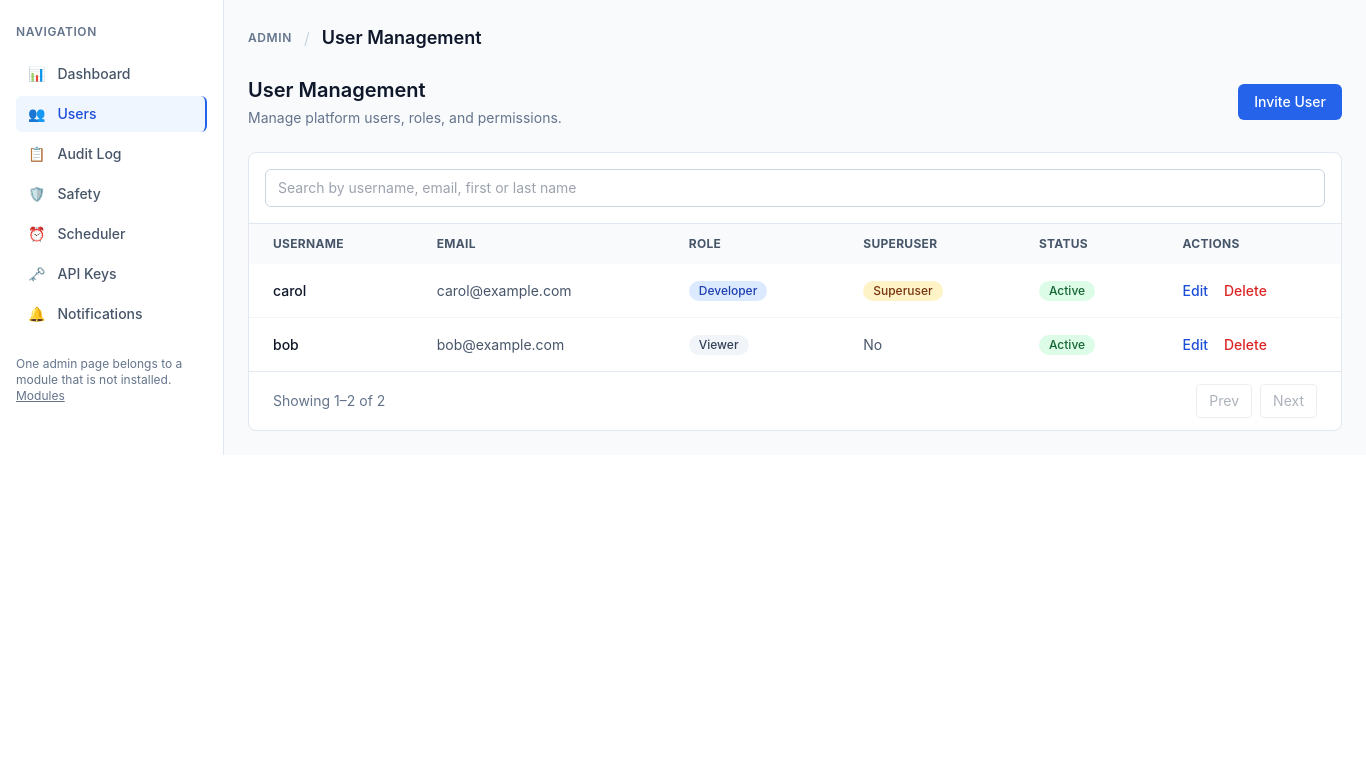
Test: /admin/users editing a user › 404 says the user is gone, inside the dialog, which stays open with the choice kept
The image size is (1366, 768).
Expected: the element with test id "user-management-page" is shown, [248,76,1342,431]
Click the button with test id "edit-user-u-2" at (1195, 344), box [1182,334,1208,354]
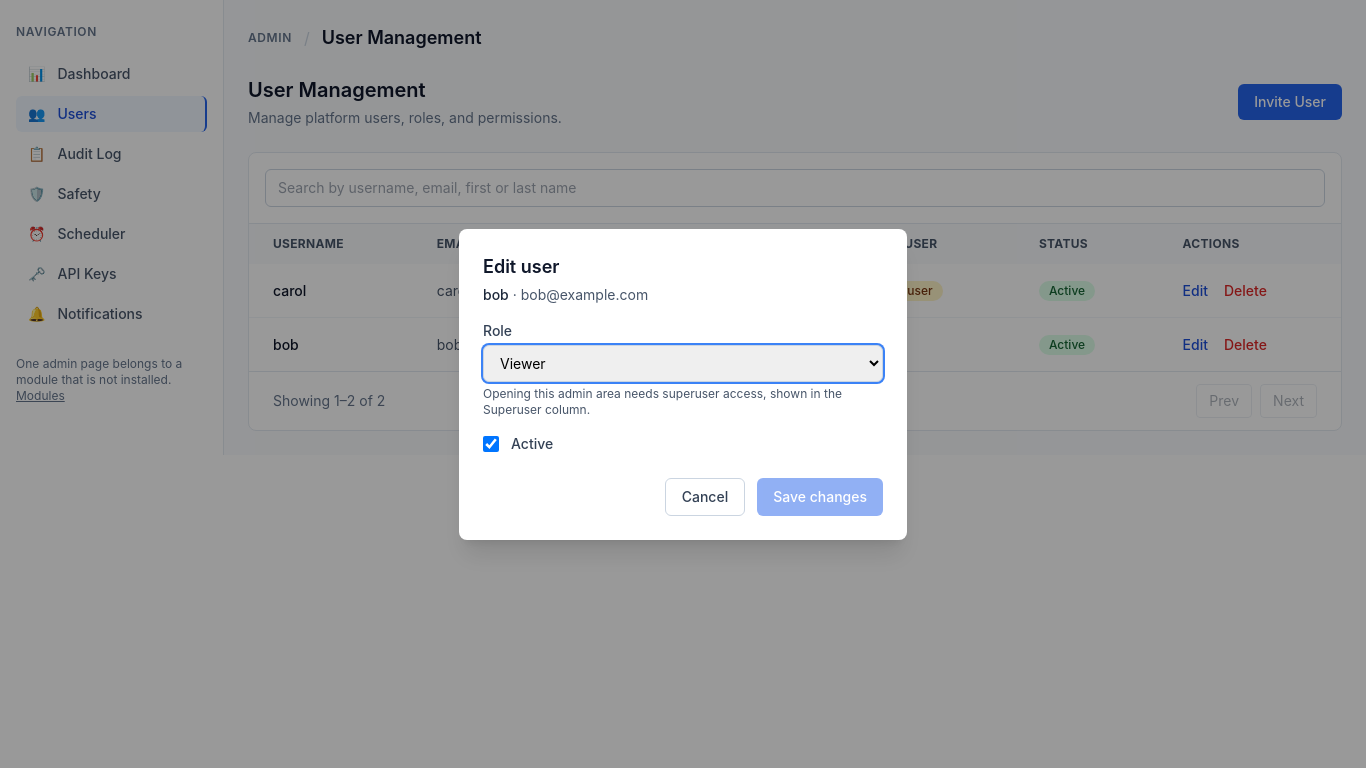
Select "Analyst" in the dropdown with test id "edit-role-select" at (683, 363), box [483,344,883,382]
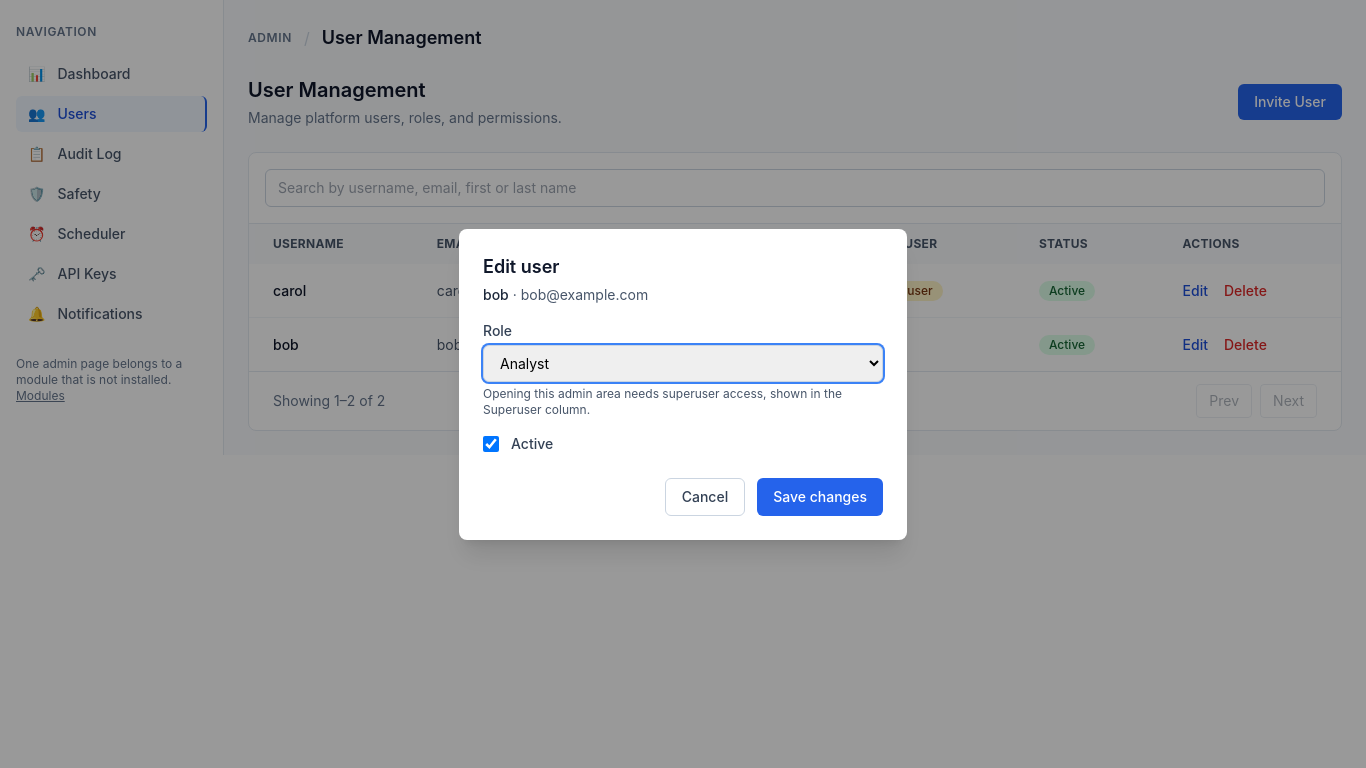
Click the button with test id "edit-save-button" at (820, 496), box [757,478,883,516]
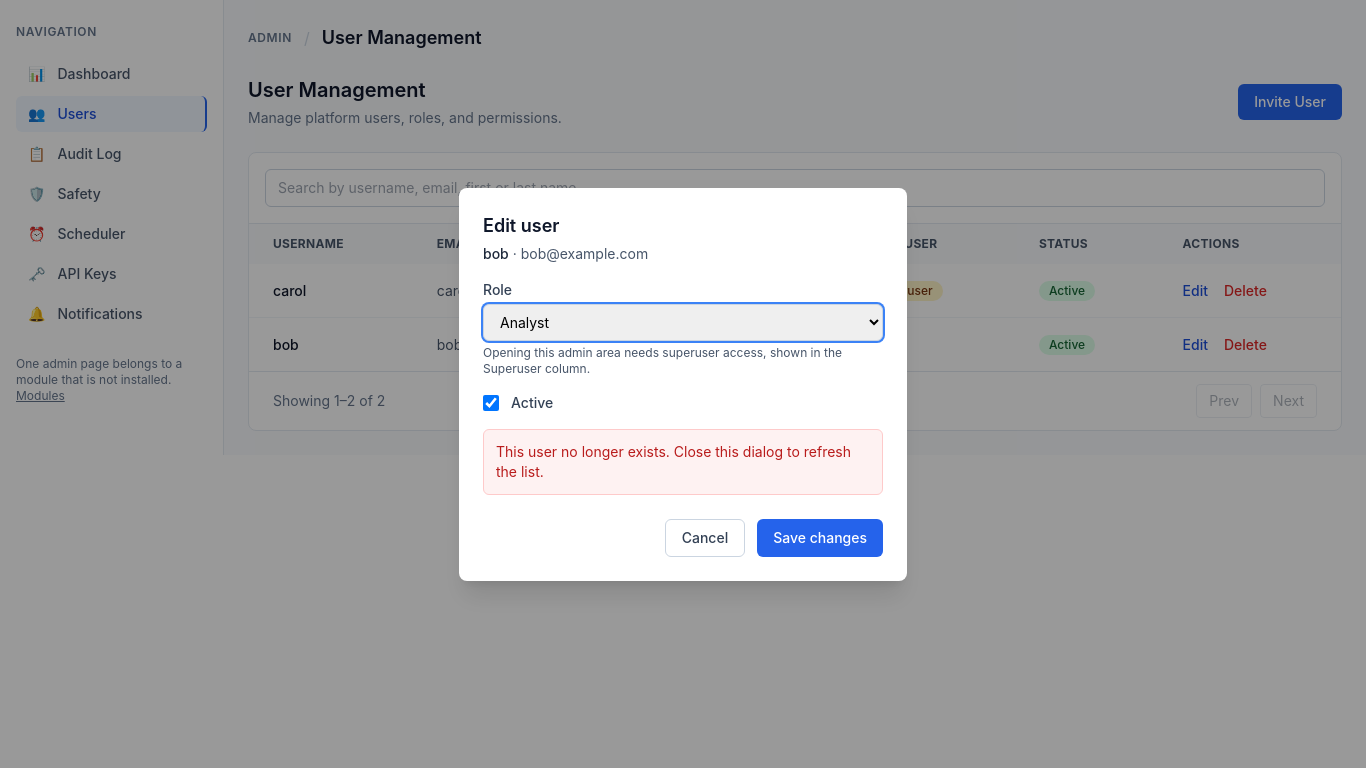
Expected: the dialog with test id "edit-user-modal" is shown
Expected: the message with test id "edit-error-message" reads "This user no longer exists. Close this dialog to refresh the list.", [496,442,851,480]
